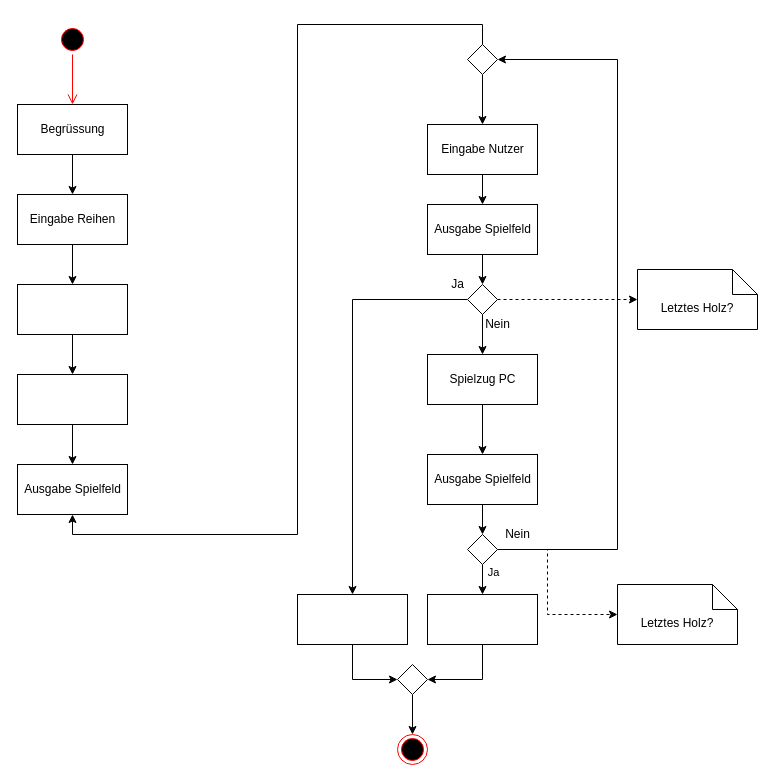
Image size: 775x782. Some labels were removed from this diagram. The shapes that lost their labels are listed below. From the top down, each one's centre as x and y in pixels, then its label:
At point 72,309: "Eingabe Hölzchen".
At point 72,399: "Generieren Spielfeld".
At point 352,619: "Gewonnen".
At point 482,619: "Verloren".
